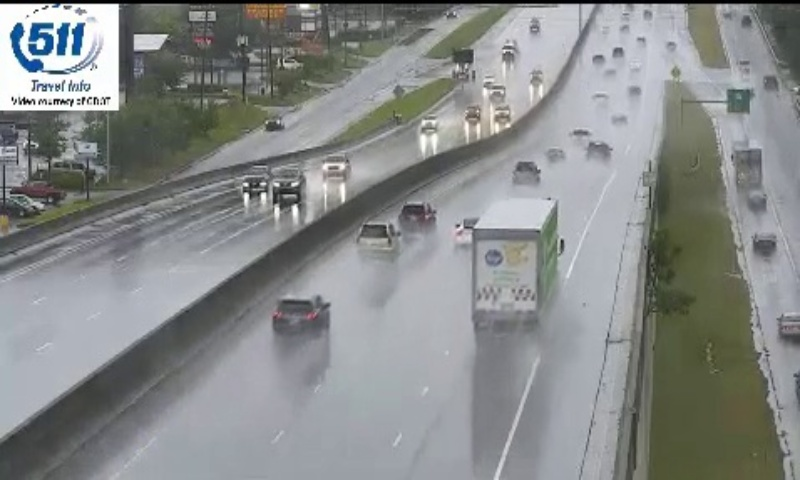car: (272, 295, 329, 340), (358, 220, 396, 259), (453, 217, 487, 247), (398, 201, 433, 230), (513, 160, 540, 184), (586, 141, 611, 164)
small-truck: (471, 201, 558, 329)
